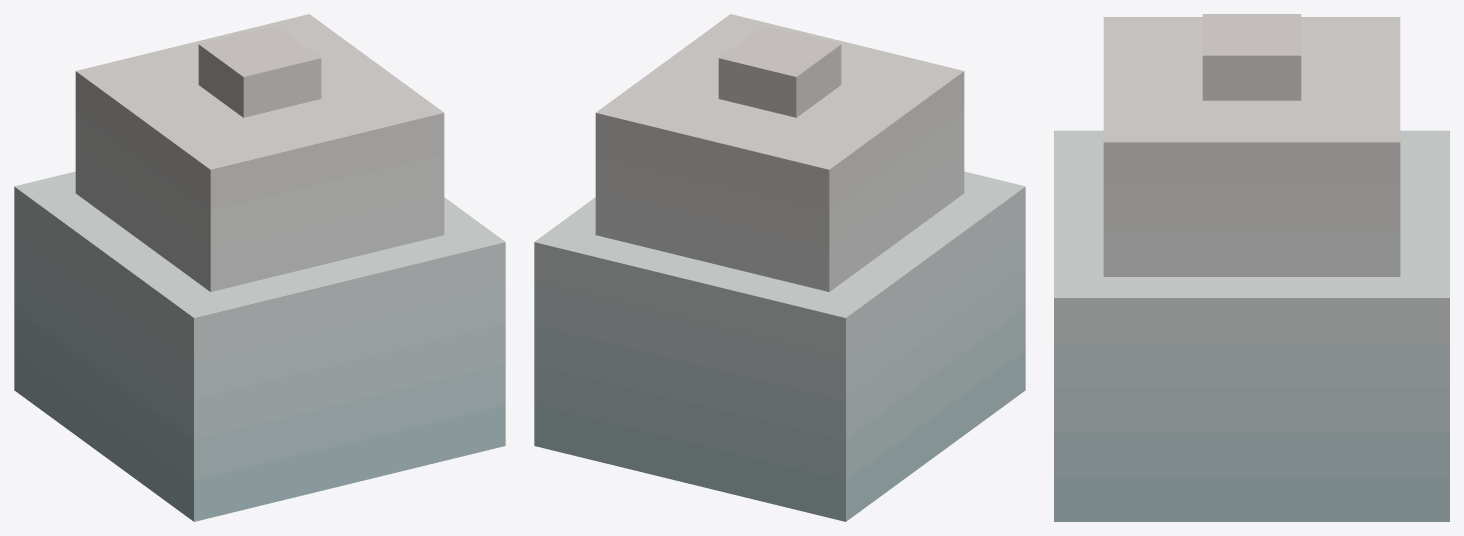
The model's file is Knee062.fbx.
3 renders of one model, left to right at view 1: azimuth 30°, elevation 25°; view 2: azimuth 150°, elevation 25°; view 3: azimuth 270°, elevation 25°, orthographic. The views are drawn at different scales.
Visible parts, largest first — view 1: Knee062; view 2: Knee062; view 3: Knee062.
Boxes of the visible parts, left/top/right/bottom form: Knee062: left=14, top=14, right=505, bottom=521; Knee062: left=534, top=14, right=1025, bottom=521; Knee062: left=1054, top=14, right=1449, bottom=521.
Size of the model in its own units: 8 by 9 by 8.
